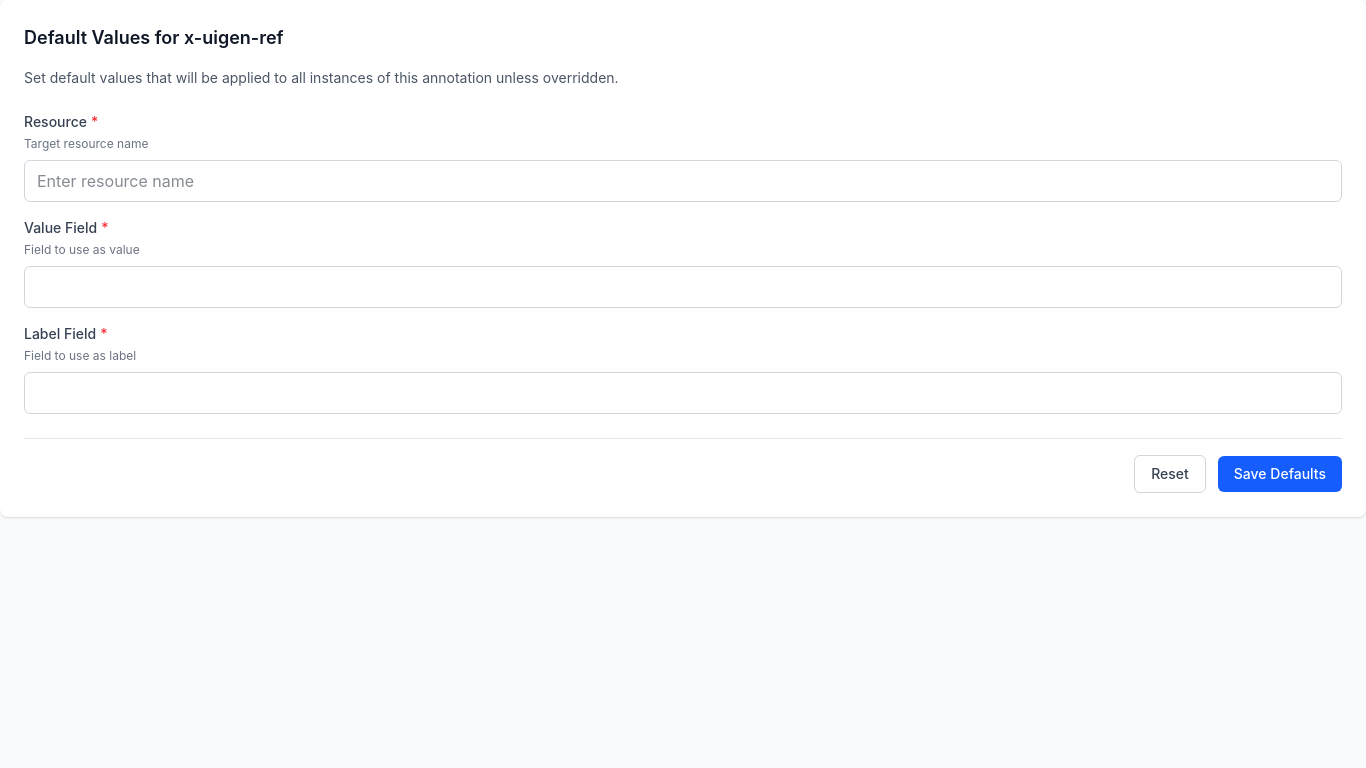
Test: AnnotationForm › Reset Functionality › should clear validation errors on reset
The width and height of the screenshot is (1366, 768).
// Submit to trigger validation
Click the button "Save Defaults" at (1280, 474), box [1218, 456, 1342, 492]
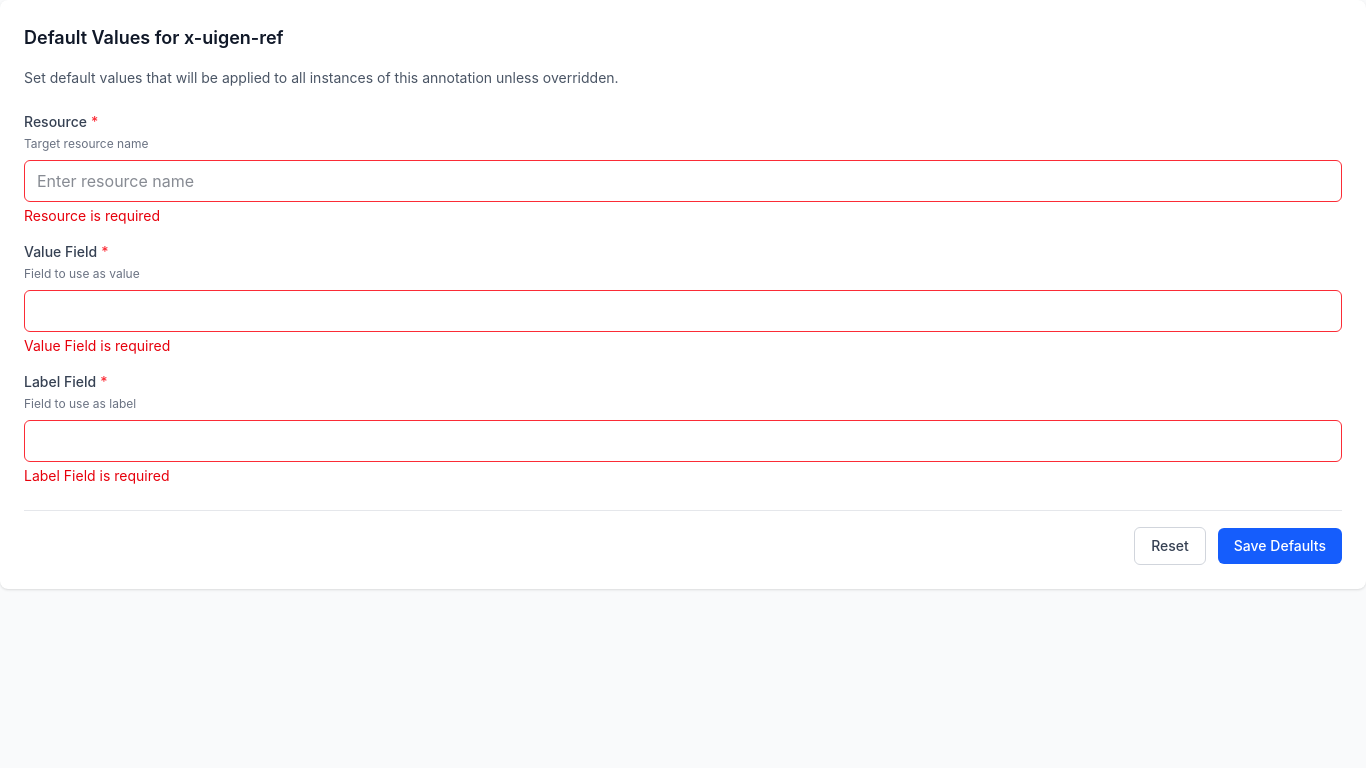
Check: the text "Resource is required" is shown, box [24, 207, 160, 224]
// Reset form
Click the button "Reset" at (1170, 546), box [1134, 527, 1206, 565]
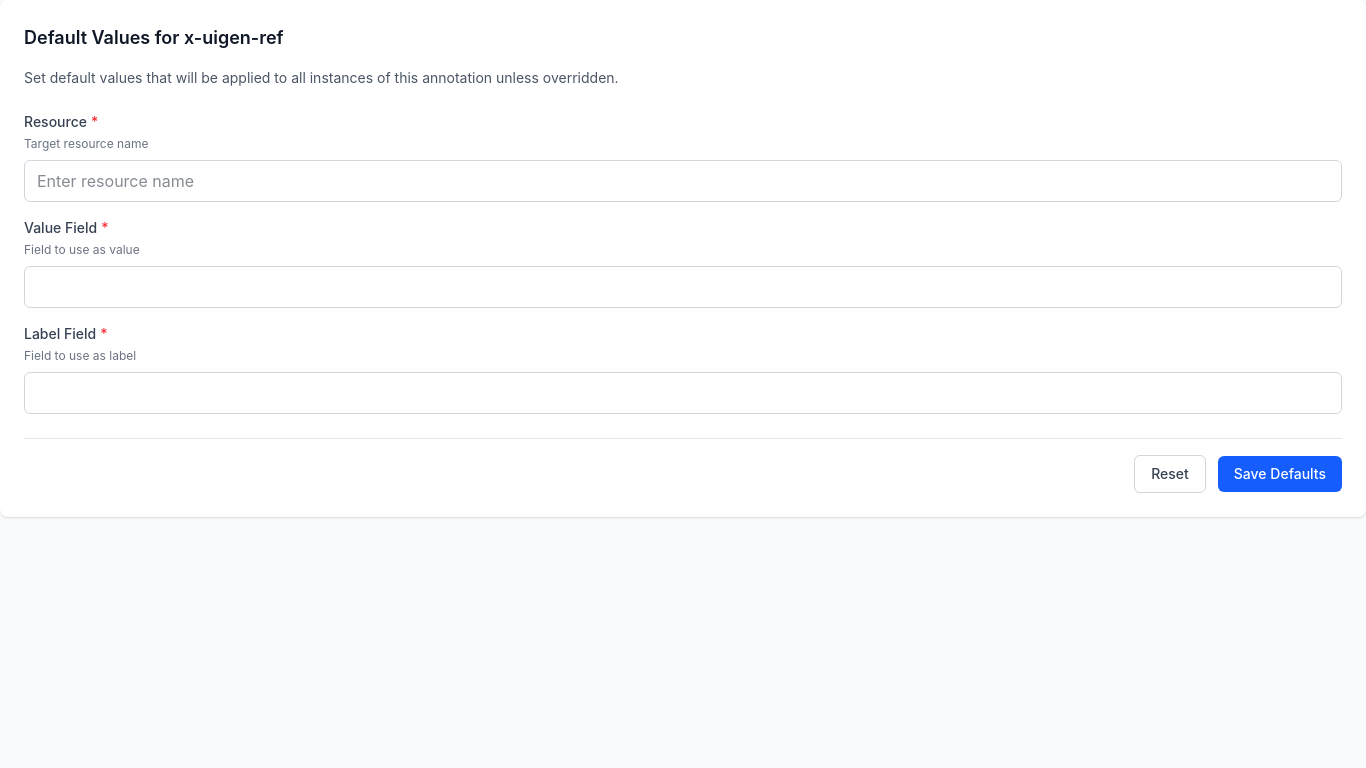
Check: the text "Resource is required" is gone
